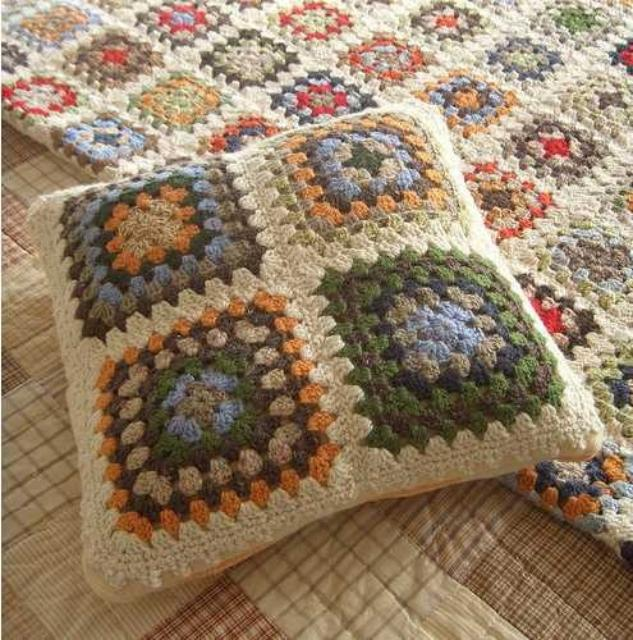pillow: (26, 98, 606, 602)
